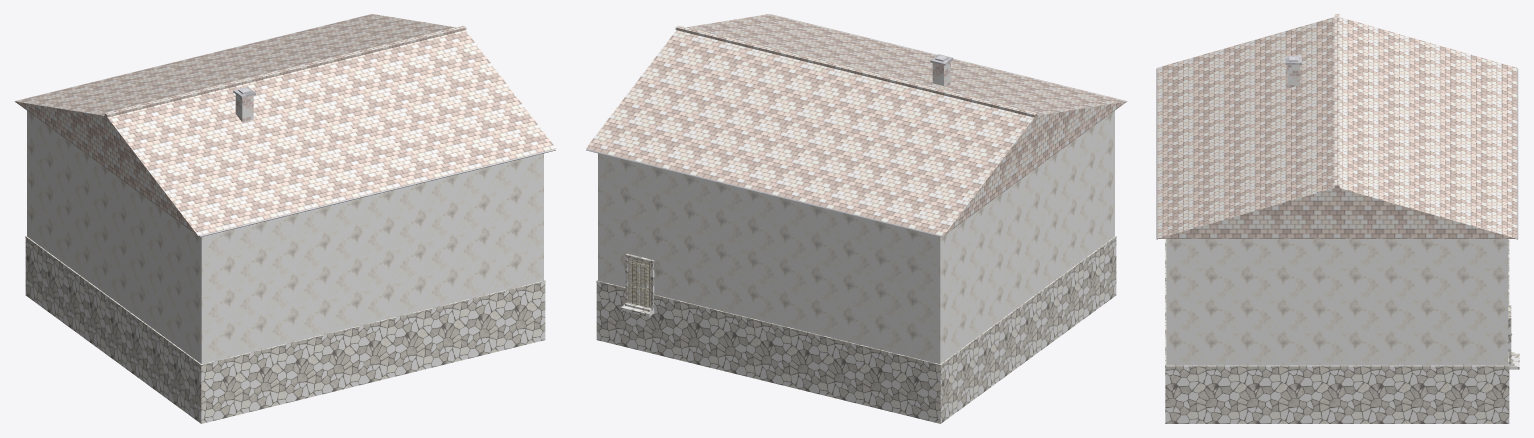
The picture shows the model from 3 angles, left to right: view 1: azimuth 30°, elevation 25°; view 2: azimuth 150°, elevation 25°; view 3: azimuth 270°, elevation 25°; orthographic projection. The views are drawn at different scales.
Parts seen in each view (by area): view 1: b1085400565; view 2: b1085400565; view 3: b1085400565.
Boxes of the visible parts, x1=… form: b1085400565: x1=15, y1=14, x2=556, y2=423; b1085400565: x1=585, y1=14, x2=1126, y2=423; b1085400565: x1=1156, y1=14, x2=1519, y2=423.
Bounding box in the file's own units: 15.78 × 10.88 × 14.14.
14 materials, 14 textured.
